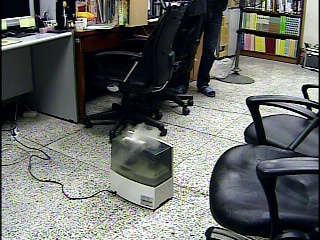smoke: (108, 121, 161, 170)
